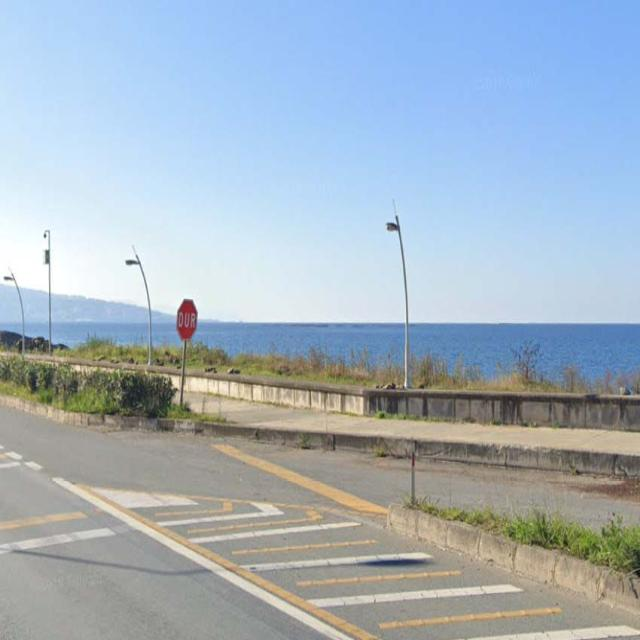dur: (176, 300, 197, 340)
